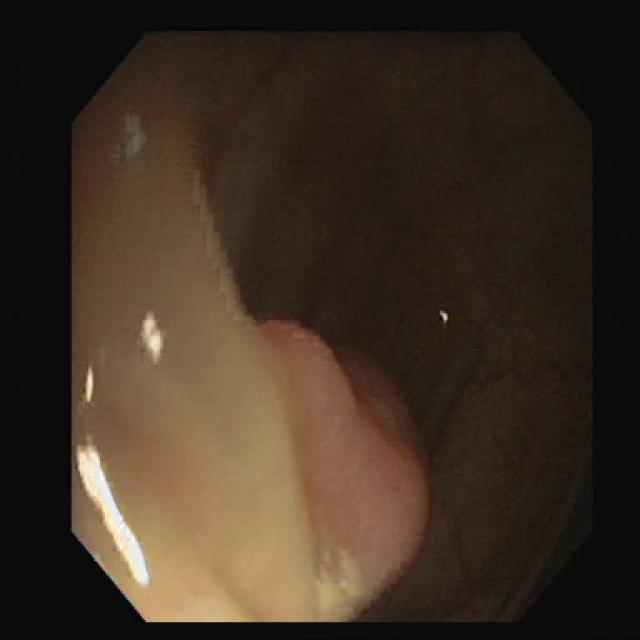tumor: (262, 322, 427, 593)
